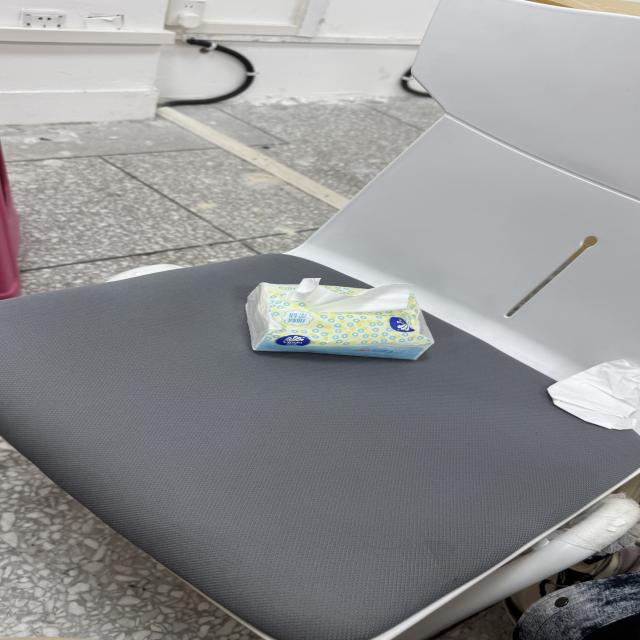tissue: (247, 279, 433, 359), (548, 360, 639, 432), (549, 494, 639, 552), (286, 279, 410, 312)
